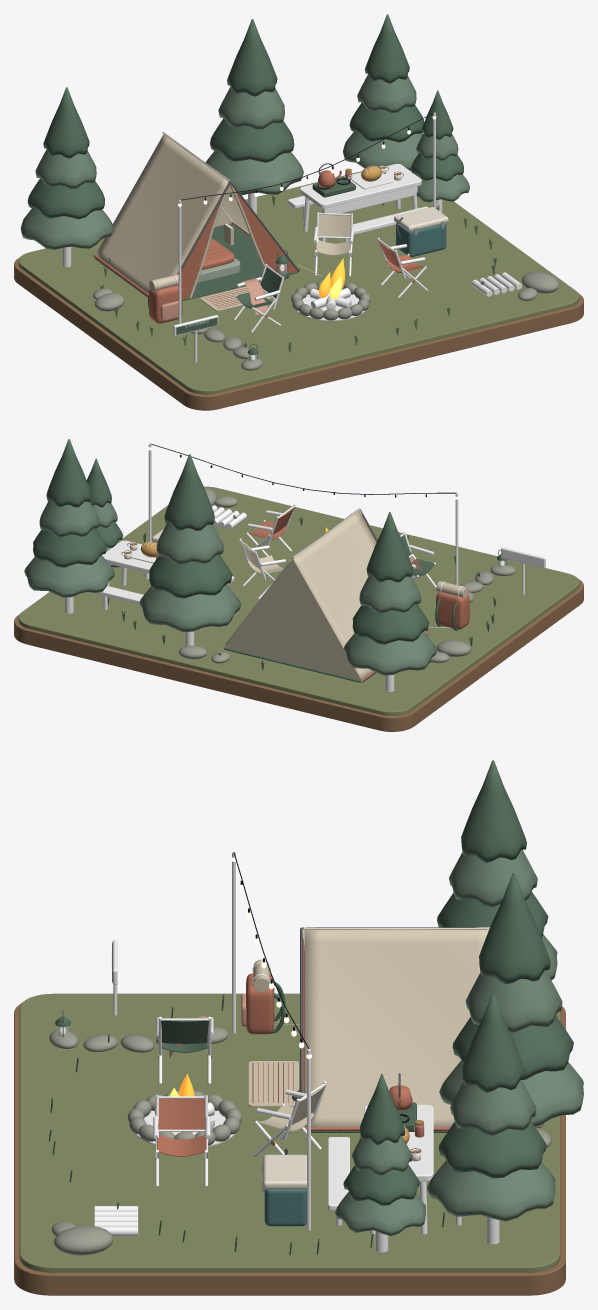
Rendered from cozy-campsite.glb.
3 views of the same model, one above another, from view 1: azimuth 30°, elevation 25°; view 2: azimuth 150°, elevation 25°; view 3: azimuth 270°, elevation 25° (orthographic). The views are drawn at different scales.
Parts seen in each view (by area): view 1: Soft mossy clearing export, Soft canvas roof panel export, Rounded earth diorama foundation export, Tall left pine softly scalloped bough export, Far woodland pine softly scalloped bough export, Far woodland pine softly scalloped bough.001 export, Far woodland pine softly scalloped bough.003 export, Tall left pine softly scalloped bough.001 export, Tent fitted groundsheet export, Tall right pine softly scalloped bough.001 export, Far woodland pine softly scalloped bough.002 export, Tall right pine softly scalloped bough export (+22 smaller); view 2: Soft mossy clearing export, Rounded earth diorama foundation export, Tent closed rear canvas export, Soft canvas roof panel export, Far woodland pine softly scalloped bough export, Tall left pine softly scalloped bough export, Far woodland pine softly scalloped bough.001 export, Tall right pine softly scalloped bough export, Far woodland pine softly scalloped bough.003 export, Tall left pine softly scalloped bough.001 export, Tall right pine softly scalloped bough.001 export, Far woodland pine softly scalloped bough.002 export (+15 smaller); view 3: Soft mossy clearing export, Soft canvas roof panel.001 export, Rounded earth diorama foundation export, Tall right pine softly scalloped bough export, Far woodland pine softly scalloped bough.003 export, Tall right pine softly scalloped bough.001 export, Tall left pine softly scalloped bough.003 export, Far woodland pine softly scalloped bough.002 export, Tall right pine softly scalloped bough.003 export, Tall right pine softly scalloped bough.002 export, Tall left pine softly scalloped bough.002 export, Far woodland pine softly scalloped bough export (+18 smaller).
Boxes of the visible parts, x1,y1,x2,y2 form: Soft mossy clearing export: [18, 170, 579, 394]; Soft canvas roof panel export: [95, 134, 228, 293]; Rounded earth diorama foundation export: [14, 257, 583, 410]; Tall left pine softly scalloped bough export: [20, 208, 113, 249]; Far woodland pine softly scalloped bough export: [205, 151, 303, 195]; Far woodland pine softly scalloped bough.001 export: [210, 118, 294, 162]; Far woodland pine softly scalloped bough.003 export: [227, 19, 277, 96]; Tall left pine softly scalloped bough.001 export: [27, 178, 104, 219]; Tent fitted groundsheet export: [95, 223, 297, 300]; Tall right pine softly scalloped bough.001 export: [349, 103, 424, 142]; Far woodland pine softly scalloped bough.002 export: [218, 87, 284, 129]; Tall right pine softly scalloped bough export: [343, 132, 422, 170]; Soft mossy clearing export: [18, 486, 579, 715]; Rounded earth diorama foundation export: [14, 579, 583, 731]; Tent closed rear canvas export: [224, 559, 360, 680]; Soft canvas roof panel export: [292, 511, 426, 681]; Far woodland pine softly scalloped bough export: [139, 584, 240, 632]; Tall left pine softly scalloped bough export: [344, 631, 436, 675]; Far woodland pine softly scalloped bough.001 export: [149, 554, 232, 598]; Tall right pine softly scalloped bough export: [24, 555, 114, 597]; Far woodland pine softly scalloped bough.003 export: [164, 454, 214, 530]; Tall left pine softly scalloped bough.001 export: [352, 604, 429, 644]; Tall right pine softly scalloped bough.001 export: [33, 528, 107, 567]; Far woodland pine softly scalloped bough.002 export: [156, 523, 223, 564]; Soft mossy clearing export: [19, 993, 560, 1272]; Soft canvas roof panel.001 export: [304, 929, 488, 1127]; Rounded earth diorama foundation export: [14, 1003, 565, 1295]; Tall right pine softly scalloped bough export: [426, 1160, 555, 1221]; Far woodland pine softly scalloped bough.003 export: [479, 873, 550, 984]; Tall right pine softly scalloped bough.001 export: [438, 1120, 546, 1178]; Tall left pine softly scalloped bough.003 export: [461, 760, 526, 862]; Far woodland pine softly scalloped bough.002 export: [465, 970, 562, 1032]; Tall right pine softly scalloped bough.003 export: [462, 993, 525, 1092]; Tall right pine softly scalloped bough.002 export: [450, 1080, 536, 1135]; Tall left pine softly scalloped bough.002 export: [449, 850, 537, 907]; Far woodland pine softly scalloped bough export: [439, 1060, 583, 1126].
Size of the model in its own units: 8.68 by 4.4 by 7.44.
